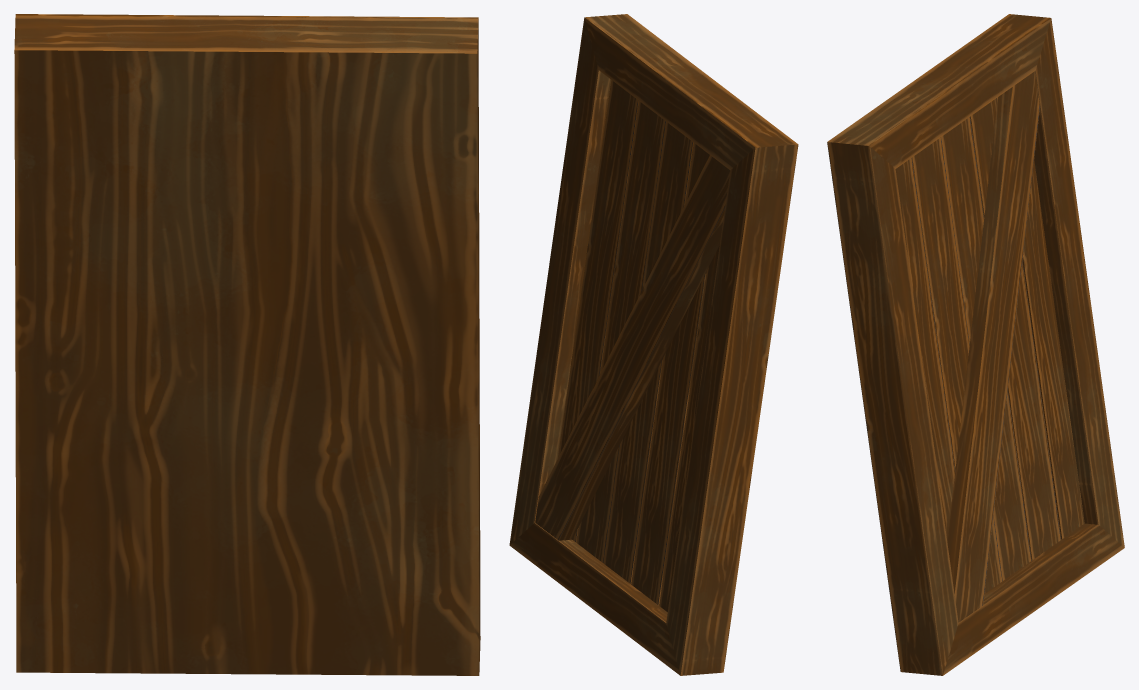
The picture shows the model from 3 angles, left to right: view 1: azimuth 30°, elevation 25°; view 2: azimuth 150°, elevation 25°; view 3: azimuth 270°, elevation 25°; orthographic projection. The views are drawn at different scales.
Visible parts, largest first — view 1: Cube.472; view 2: Cube.472; view 3: Cube.472.
Boxes of the visible parts, box(x1,y1,x2,y2) form: Cube.472: box(14, 14, 480, 675); Cube.472: box(509, 14, 798, 675); Cube.472: box(827, 14, 1124, 675).
Bounding box in the file's own units: 221 × 339 × 177.
1 material, 1 textured.
